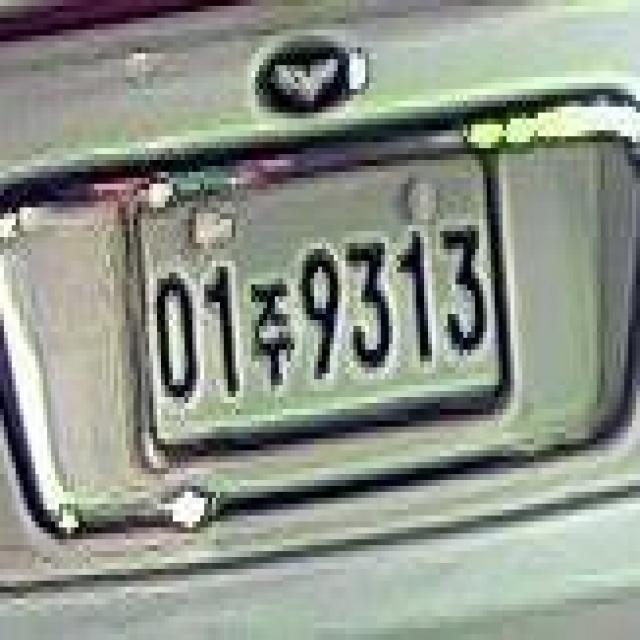illegal_plate: (130, 146, 510, 456)
